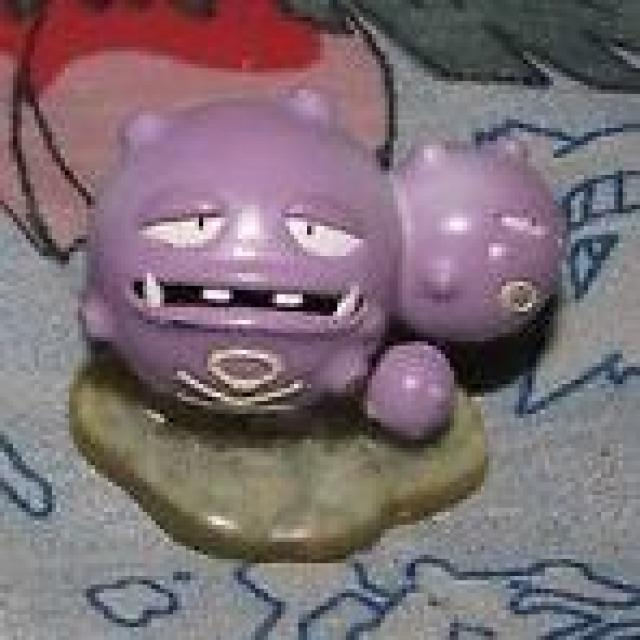Weezing: (82, 123, 572, 412)
